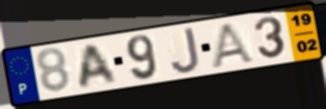3: (253, 15, 287, 61)
8: (34, 47, 76, 96)
9: (126, 32, 162, 82)
A: (209, 21, 258, 69), (77, 42, 120, 91)
J: (169, 25, 202, 75)
